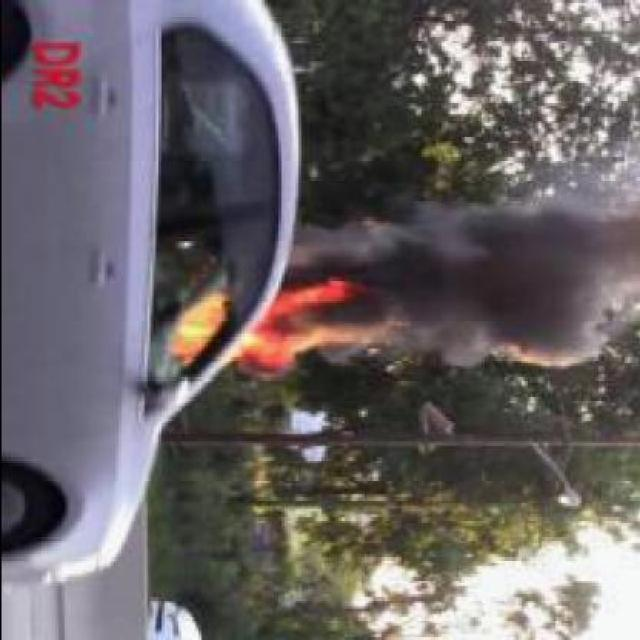Fire: (170, 276, 380, 370)
Smoke: (378, 181, 640, 372)
